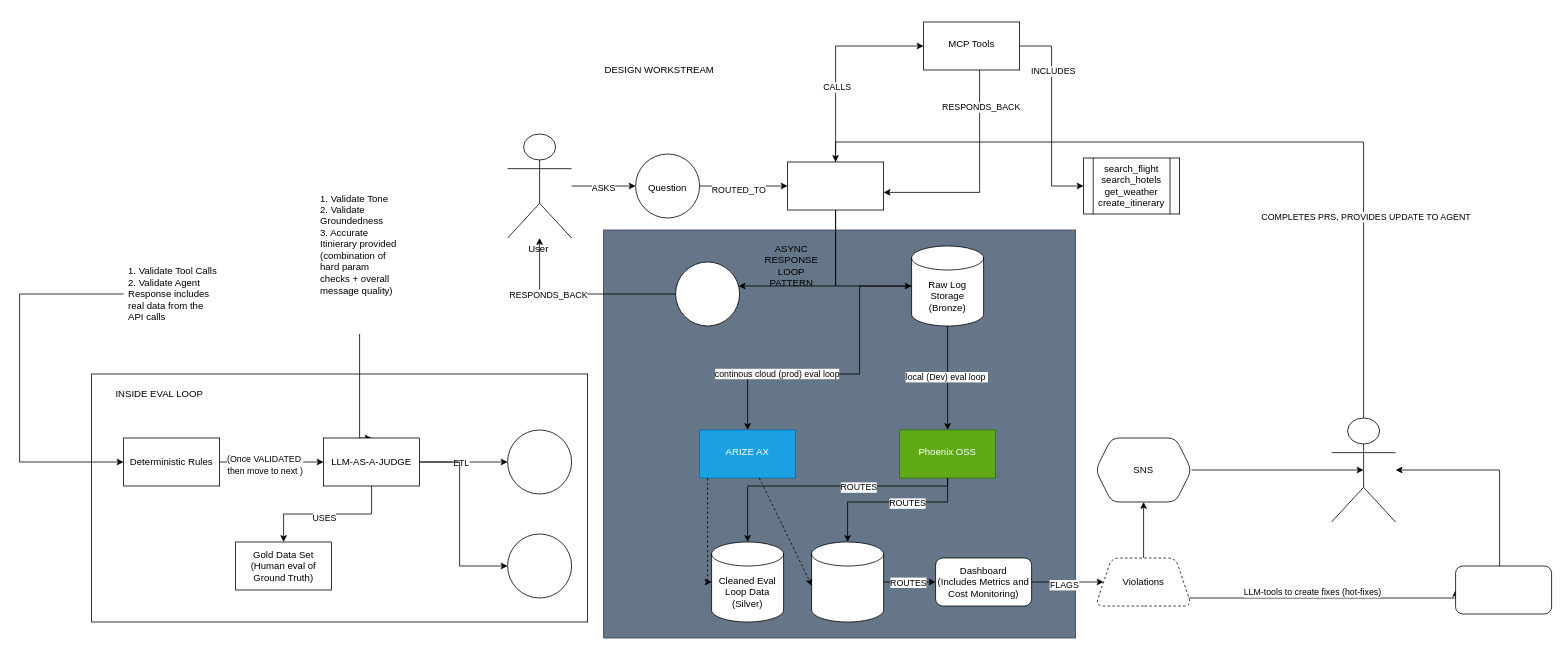
This 1566x652 diagram has some shape labels left out. The centre of each missing label's shape, as x and y in pixels:
Business Metrics (Gold): pixel 847 581
Draft PRs: pixel 1503 589
Engineering Team: pixel 1363 469
Gold Storage: pixel 539 565
Response: pixel 707 293
Silver Storage: pixel 539 461
Travel Agent: pixel 835 185
